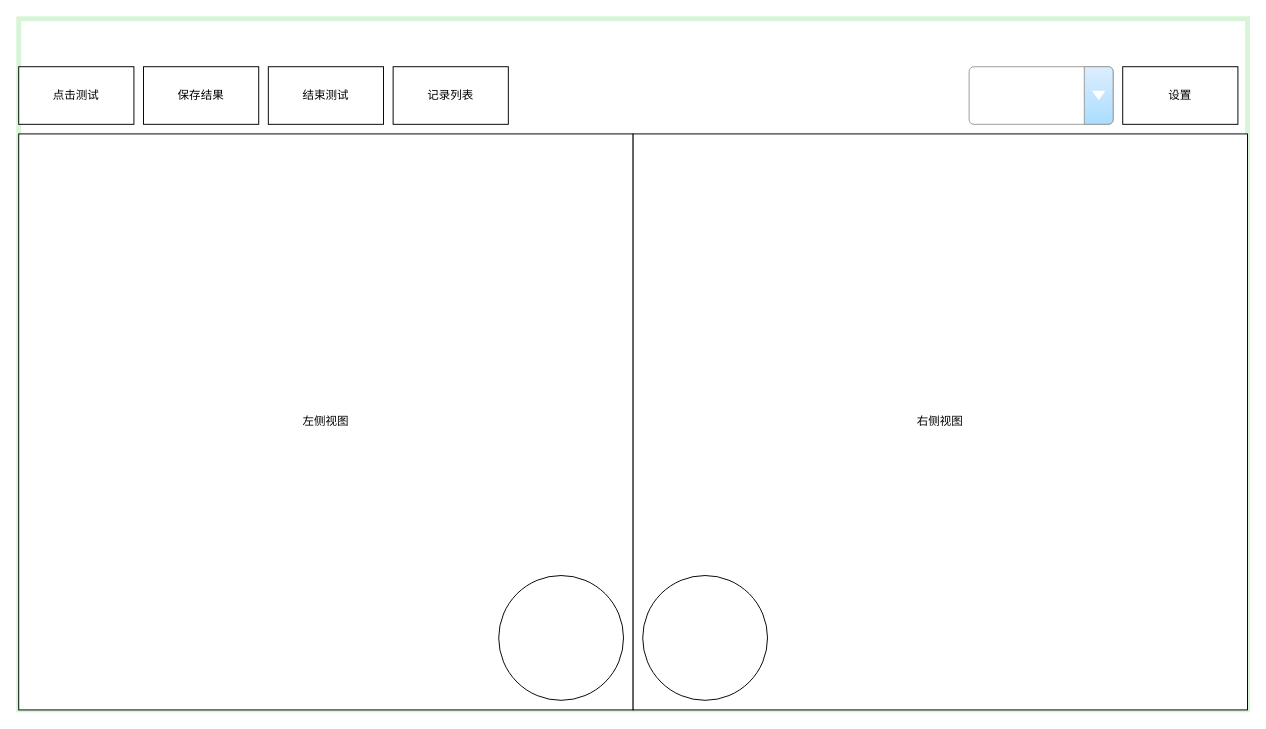
The diagram is 1266 pixels wide and 729 high, and some of its shapes have lost their labels. Each missing label, with the centre of its shape:
"右侧特征图显示位置" belongs at point (705, 637).
"孔数量选择" belongs at point (1040, 95).
"左侧特征图显示位置" belongs at point (561, 637).
